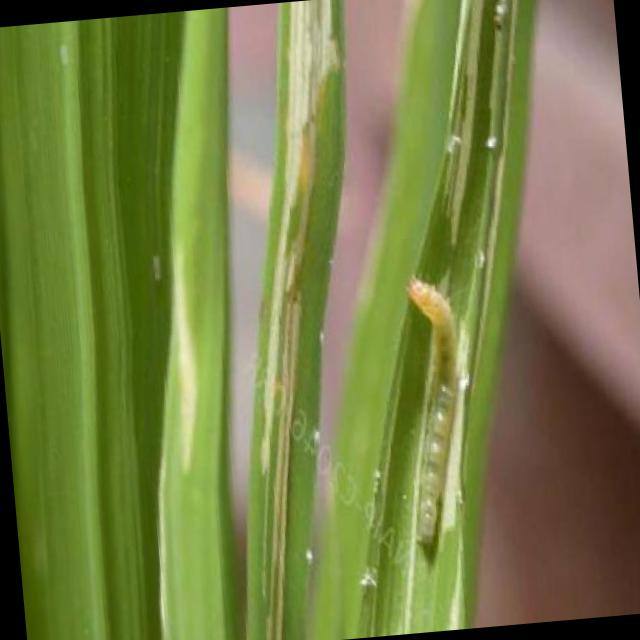leaf-folder: (376, 242, 487, 559)
